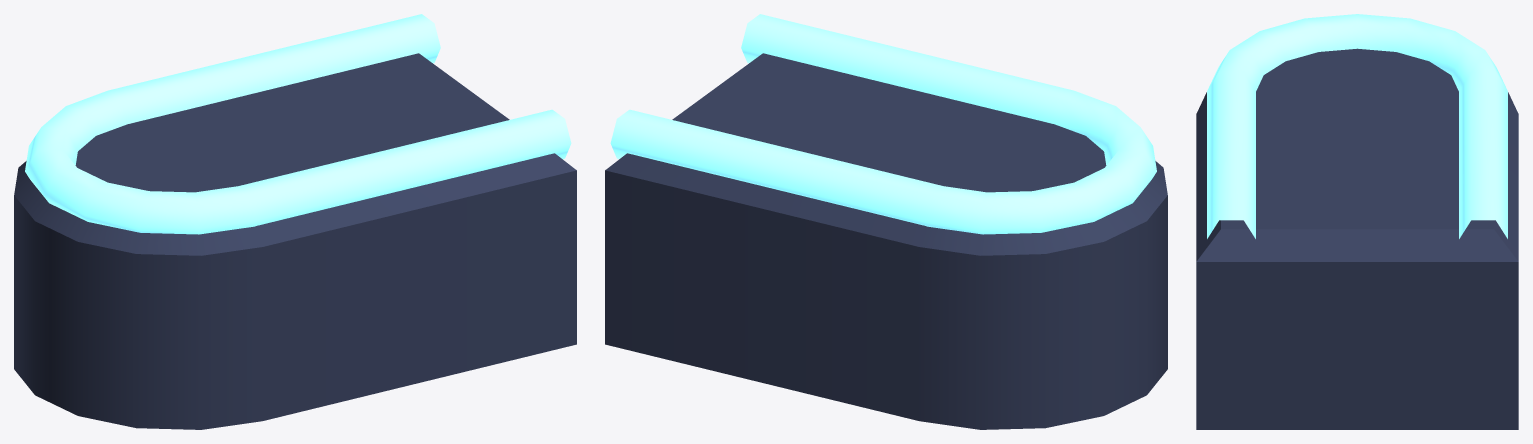
Rendered from wall_end.glb.
The picture shows the model from 3 angles, left to right: view 1: azimuth 30°, elevation 25°; view 2: azimuth 150°, elevation 25°; view 3: azimuth 270°, elevation 25°; orthographic projection. The views are drawn at different scales.
Parts seen in each view (by area): view 1: wall_end; view 2: wall_end; view 3: wall_end.
Boxes of the visible parts, <box> form: wall_end: <box>14,14,576,429</box>; wall_end: <box>605,14,1167,429</box>; wall_end: <box>1196,14,1518,429</box>.
Bounding box in the file's own units: 0.73 × 0.3303 × 0.46.
